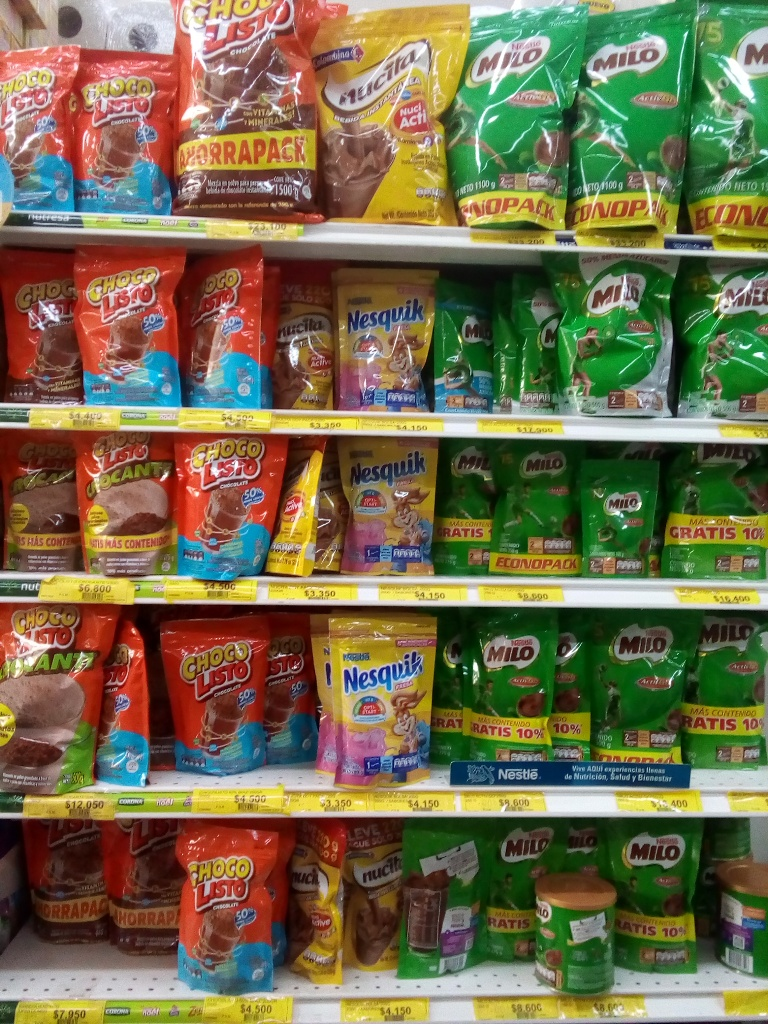COL0170102DYP25000: (64, 428, 181, 583)
COL0170102DYP50000: (1, 599, 112, 801)
COL0170103DYP1,500: (164, 2, 351, 224)
COL0170103DYP20000: (2, 247, 82, 404)
COL0170103DYP40000: (15, 823, 110, 952)
COL0170104DYP20000: (74, 246, 178, 414)
COL0170203DYP10000: (577, 458, 658, 580)
COL0170203DYP50000: (542, 246, 679, 421)
COL0170203LAT40000: (529, 867, 624, 997)
COL0170205DYP20000: (431, 267, 502, 413)
COL0170305DYP20000: (326, 262, 436, 412)
